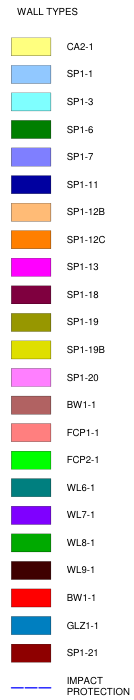hatch: (8, 256, 54, 280), (8, 586, 54, 610), (8, 613, 52, 638), (9, 145, 54, 169), (8, 503, 53, 527), (7, 283, 53, 306), (8, 476, 54, 499), (8, 201, 53, 224), (9, 35, 53, 58), (9, 173, 53, 196), (9, 531, 53, 554), (9, 559, 53, 582), (9, 642, 53, 665), (8, 311, 53, 333), (9, 63, 52, 86), (9, 90, 53, 112), (9, 118, 53, 140), (9, 228, 53, 250), (9, 339, 52, 361), (9, 449, 54, 470), (10, 366, 52, 388), (9, 395, 53, 416), (8, 422, 52, 443), (8, 684, 54, 693)
label: (62, 673, 133, 699), (62, 63, 97, 82), (63, 617, 101, 633), (65, 91, 96, 110), (64, 343, 106, 357), (63, 425, 101, 440), (63, 370, 103, 384), (64, 451, 99, 467), (63, 589, 98, 605), (64, 205, 107, 218), (64, 315, 105, 328), (64, 508, 101, 522), (64, 39, 96, 55), (65, 287, 99, 302), (63, 562, 97, 577), (64, 261, 102, 274), (64, 481, 99, 495), (63, 234, 107, 245), (64, 646, 99, 659), (65, 122, 96, 136), (64, 398, 100, 410), (63, 179, 102, 190), (64, 537, 98, 549), (64, 150, 96, 162)
